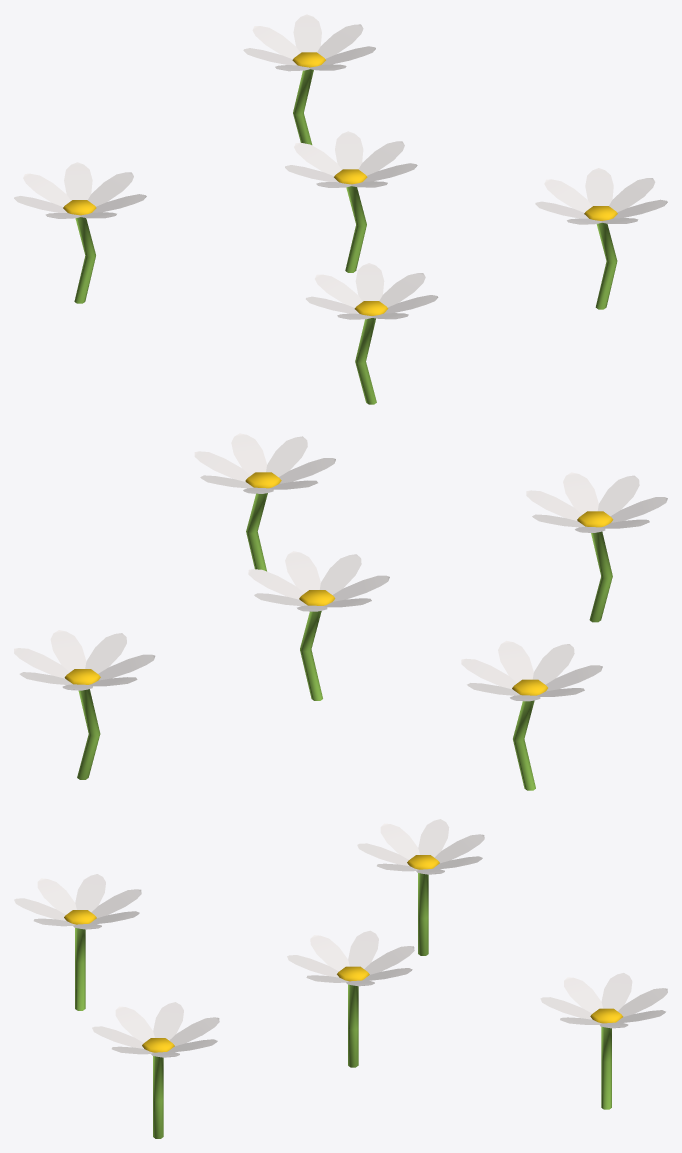
Rendered from aef41011-7177-4169-b1e5-8d529c7f6475.glb.
The picture shows the model from 3 angles, top to bottom: view 1: azimuth 30°, elevation 25°; view 2: azimuth 150°, elevation 25°; view 3: azimuth 270°, elevation 25°; orthographic projection. The views are drawn at different scales.
Visible parts, largest first — view 1: FlowerLeavesWhite, FlowerCoresWhite; view 2: FlowerLeavesWhite, FlowerCoresWhite; view 3: FlowerLeavesWhite, FlowerCoresWhite.
Boxes of the visible parts, box(x1,y1,x2,y2) form: FlowerLeavesWhite: box(14, 14, 667, 319); FlowerCoresWhite: box(63, 52, 617, 404); FlowerLeavesWhite: box(14, 433, 667, 701); FlowerCoresWhite: box(64, 472, 613, 790); FlowerLeavesWhite: box(14, 819, 667, 1057); FlowerCoresWhite: box(64, 855, 623, 1138).
Size of the model in its own units: 1.44 by 0.3053 by 1.68.
1 material, 1 textured.
